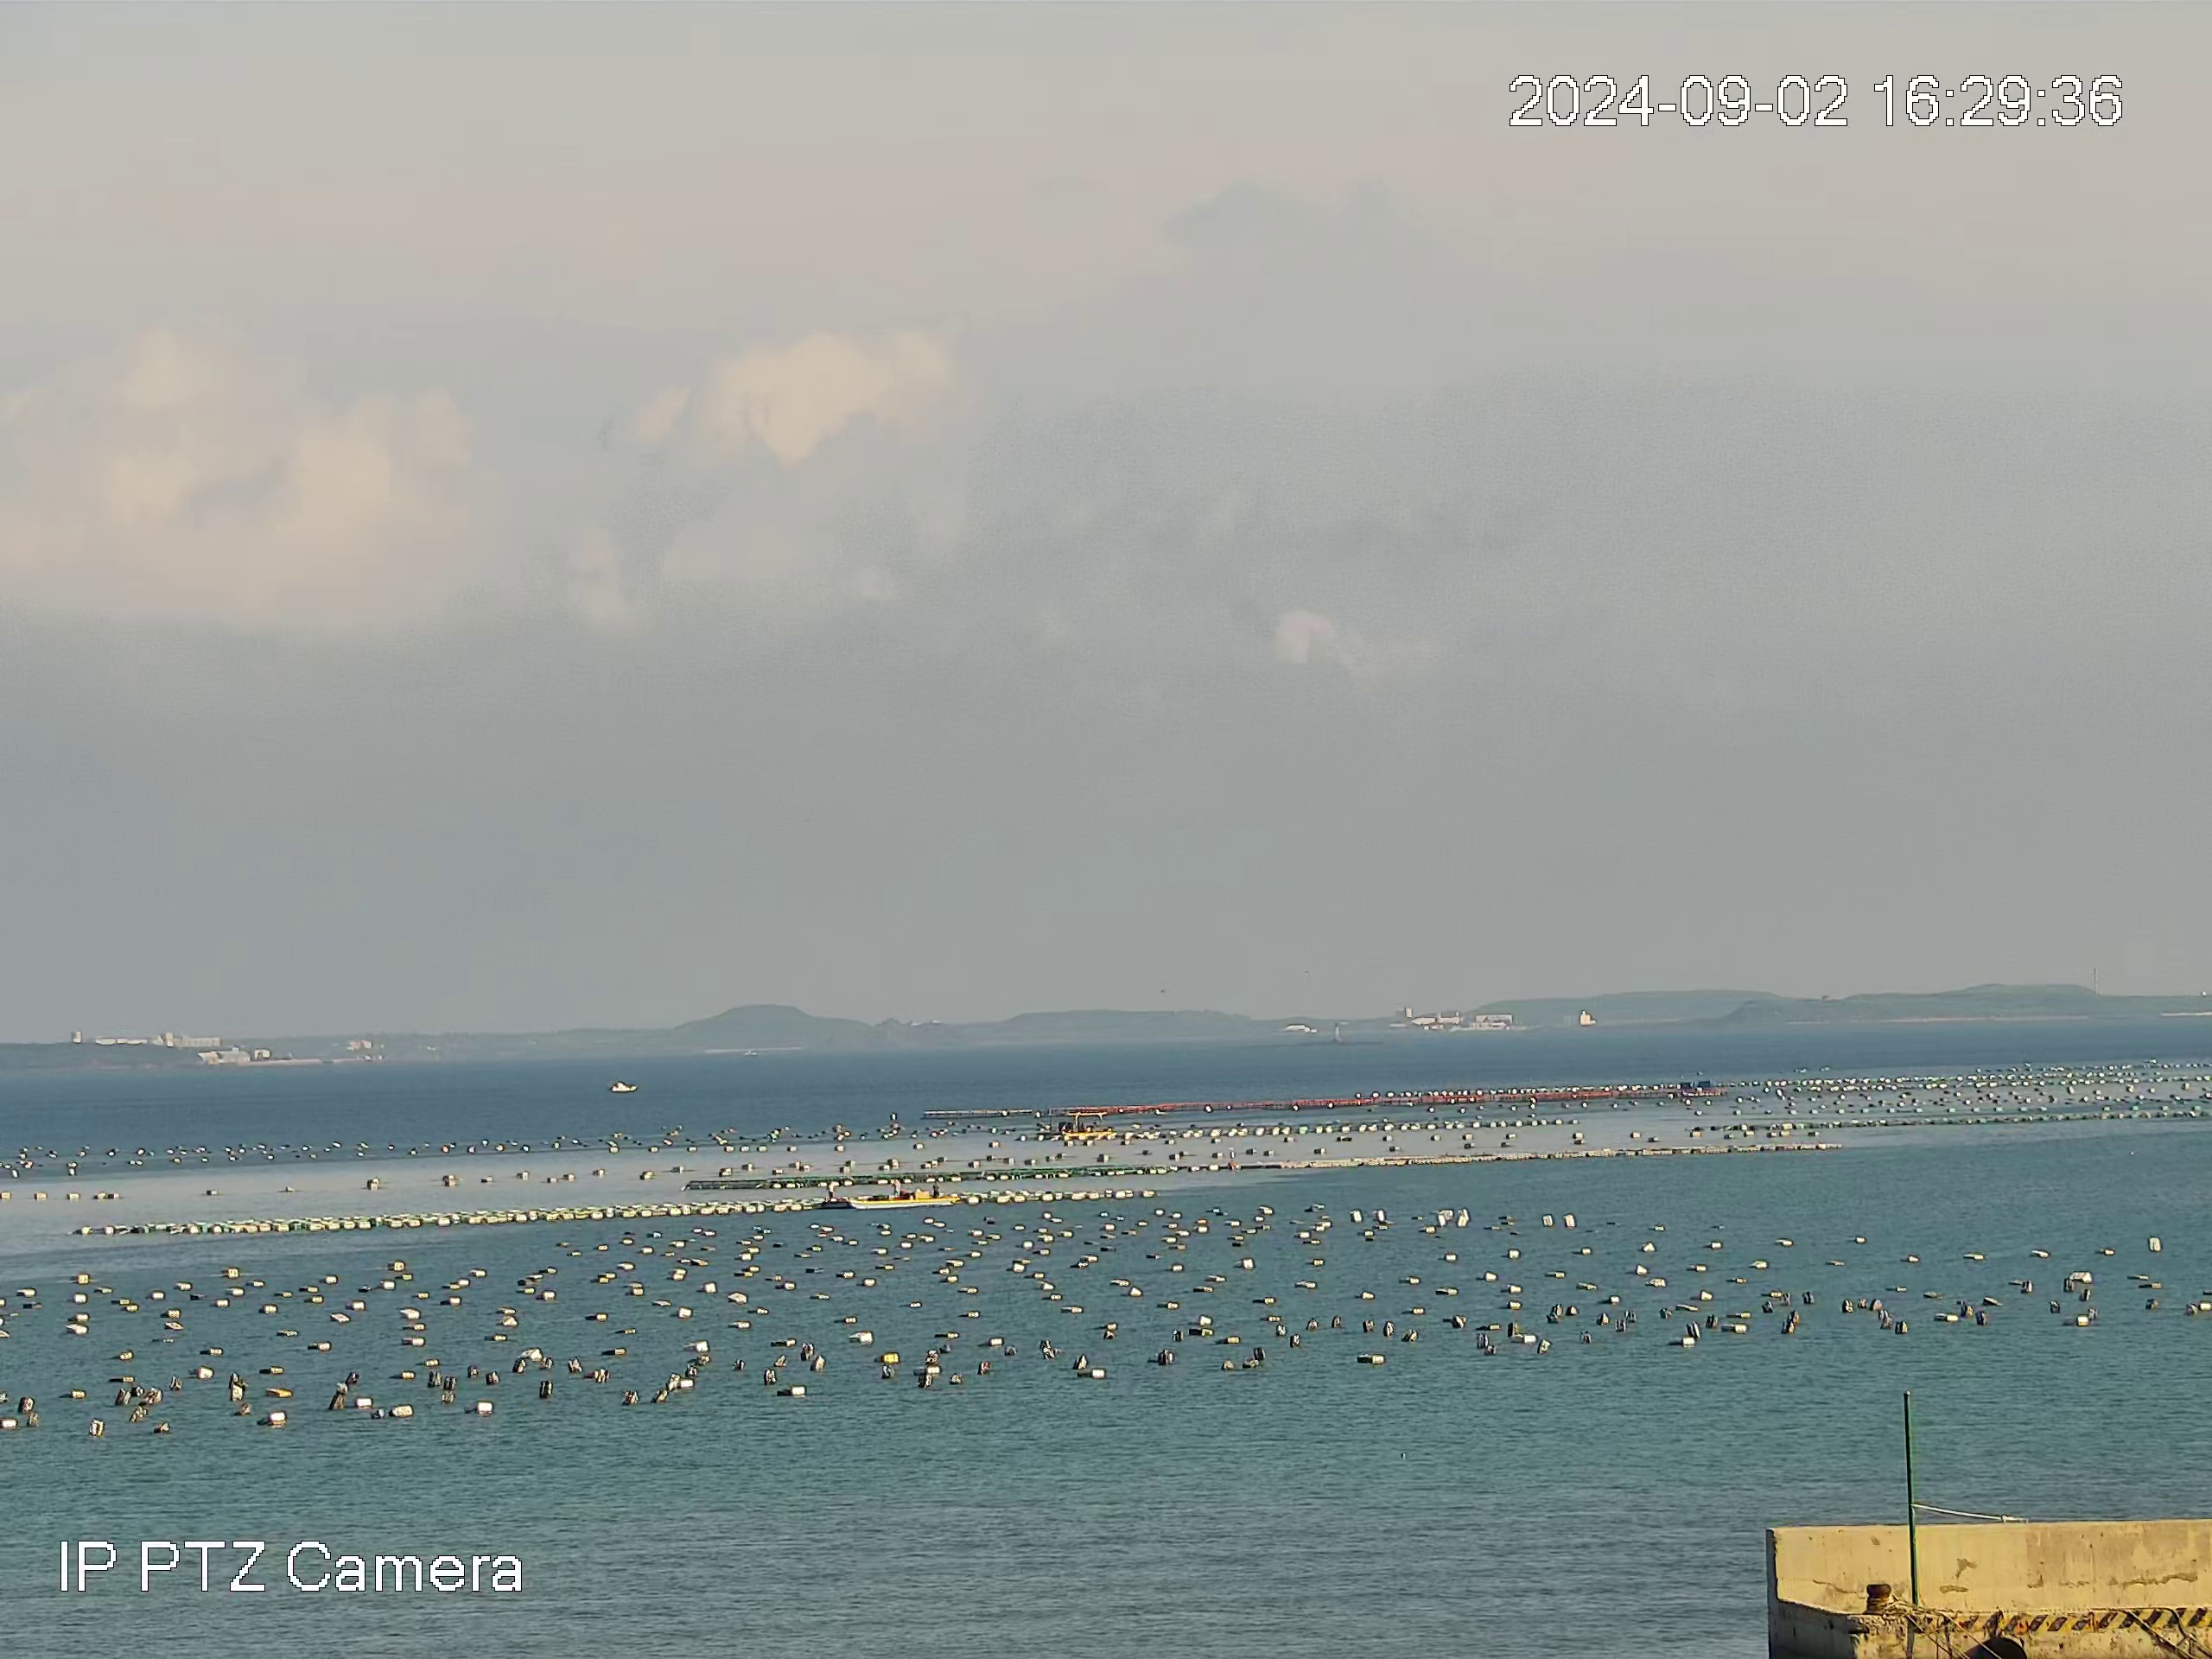boat: (846, 1178, 960, 1211), (1057, 1112, 1115, 1138), (608, 1080, 639, 1094)
